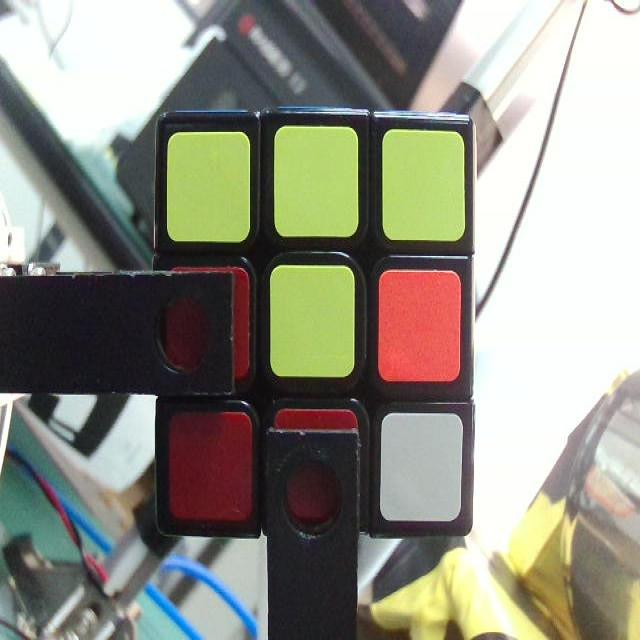o: (381, 275, 460, 382)
r: (167, 270, 247, 382), (170, 415, 248, 522), (278, 415, 354, 519)
w: (382, 415, 459, 518)
y: (383, 131, 464, 238), (277, 128, 357, 235), (170, 136, 248, 239), (274, 271, 350, 376)
